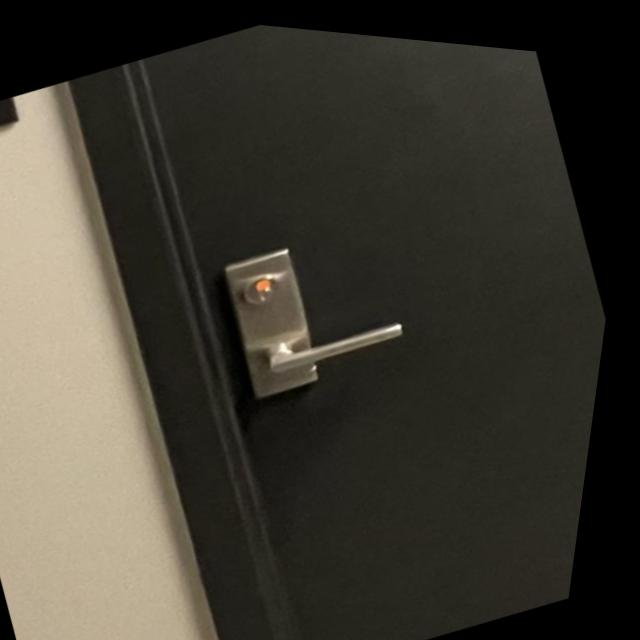door_handle: (244, 272, 433, 401)
